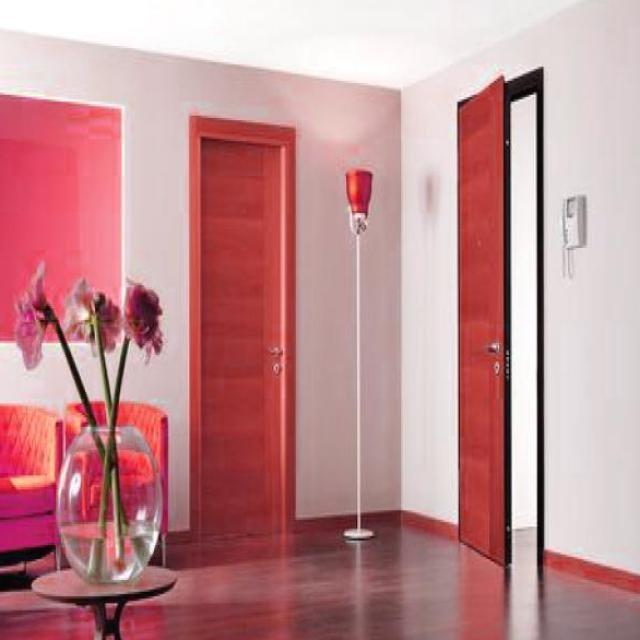door: (178, 85, 308, 582), (442, 74, 514, 566)
